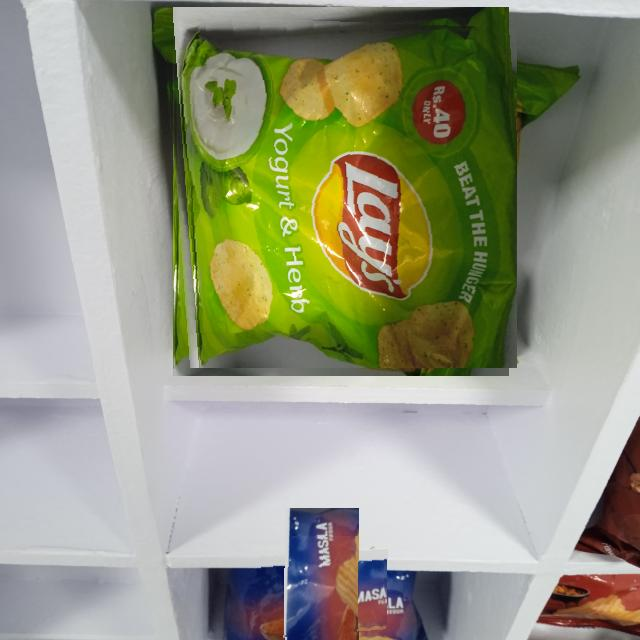Plastic: (164, 15, 517, 368), (255, 536, 388, 640)
